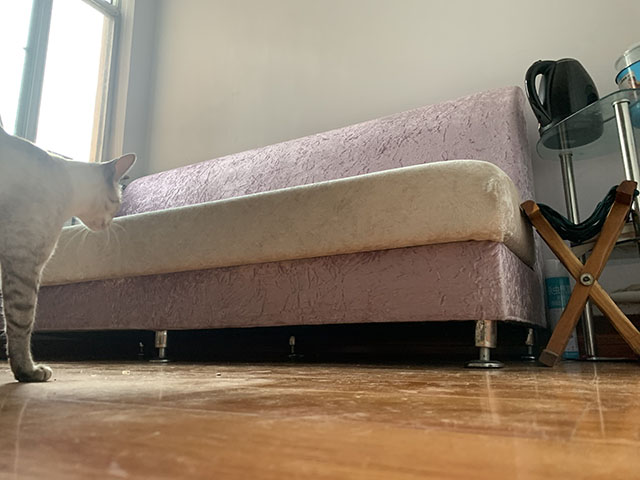sofa: (32, 84, 549, 370)
stool: (521, 180, 640, 370)
table: (535, 86, 640, 364)
